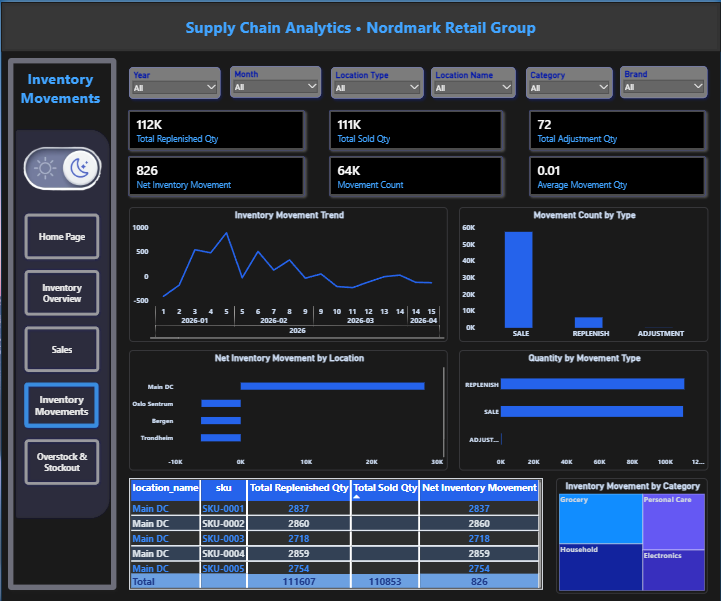

What the dashboard file says about the page in this screenshot:
{"tool":"powerbi","page":{"name":"Inventory Movements","canvas":[3600,3000],"ordinal":3},"visuals":[{"type":"slicer","fields":{"Values":["dim_date.Month (Short)"]},"box":[1142.7,322.7,456.4,158],"z":0,"group":"g3"},{"type":"group","id":"g1","title":"Group 2","box":[639.3,547.4,2887.8,200.9],"z":0,"group":"g4"},{"type":"cardVisual","fields":{"Data":["A Measures.Total Replenished Qty"]},"box":[639.3,547.4,883.6,200.9],"z":0,"group":"g1"},{"type":"cardVisual","fields":{"Data":["A Measures.Net Inventory Movement"]},"box":[639.3,776.6,883.6,200.9],"z":0,"group":"g2"},{"type":"slicer","fields":{"Values":["silver__location_master__lite.location_name"]},"box":[2152.2,325.8,423.3,155],"z":1000,"group":"g3"},{"type":"cardVisual","fields":{"Data":["A Measures.Total Sold Qty"]},"box":[1646.3,547.4,868.8,200.9],"z":1000,"group":"g1"},{"type":"shape","box":[33.7,632.2,515,1960],"z":1000},{"type":"group","id":"g2","title":"Group 2","box":[639.3,776.6,2887.8,200.9],"z":1000,"group":"g4"},{"type":"cardVisual","fields":{"Data":["A Measures.Movement Count"]},"box":[1646.3,776.6,868.8,200.9],"z":1000,"group":"g2"},{"type":"slicer","fields":{"Values":["silver__product_master__lite.brand"]},"box":[3094.7,321.7,436.5,161],"z":2000,"group":"g3"},{"type":"cardVisual","fields":{"Data":["A Measures.Total Adjustment Qty"]},"box":[2643.5,547.4,883.6,200.9],"z":2000,"group":"g1"},{"type":"cardVisual","fields":{"Data":["A Measures.Average Movement Qty"]},"box":[2643.5,776.6,883.6,200.9],"z":2000,"group":"g2"},{"type":"shape","box":[33.7,280.5,542.4,2659.6],"z":3000},{"type":"slicer","fields":{"Values":["silver__product_master__lite.category"]},"box":[2625.1,325.8,433.2,158],"z":3000,"group":"g3"},{"type":"slicer","fields":{"Values":["dim_date.Year"]},"box":[639.7,325.8,457.4,159.4],"z":4000,"group":"g3"},{"type":"group","id":"g3","title":"Group 1","box":[639.7,321.7,2891.5,157.1],"z":5000},{"type":"slicer","fields":{"Values":["silver__location_master__lite.location_type"]},"box":[1648.4,325.8,463,158],"z":5000,"group":"g3"},{"type":"pageNavigator","box":[99.9,1042.8,403.6,1386.5],"z":7000},{"type":"image","box":[41.1,669.6,540,300],"z":8000},{"type":"shape","box":[0,0,3598.5,250.6],"z":9000},{"type":"group","id":"g4","title":"Group 3","box":[639.3,547.4,2884.8,431.5],"z":22000},{"type":"clusteredColumnChart","title":"Movement Count by Type","fields":{"Category":["silver__inventory_movements__lite.movement_type"],"Y":["A Measures.Movement Count"]},"box":[2289.5,1026.9,1246.6,675.2],"z":23000},{"type":"lineChart","title":"Inventory Movement Trend","fields":{"Category":["dim_date.Year","dim_date.Year-Month","dim_date.ISO Week Number"],"Y":["A Measures.Net Inventory Movement"]},"box":[639.3,1026.9,1594.2,675.2],"z":24000},{"type":"treemap","title":"Inventory Movement by Category","fields":{"Group":["silver__product_master__lite.category"],"Values":["A Measures.Movement Count"]},"box":[2709,2381.4,827.1,559.4],"z":25000},{"type":"tableEx","fields":{"Values":["silver__location_master__lite.location_name","silver__product_master__lite.sku","A Measures.Total Replenished Qty","A Measures.Total Sold Qty","A Measures.Net Inventory Movement"]},"box":[639.3,2381.4,2013.8,559.4],"z":26000},{"type":"clusteredBarChart","title":"Net Inventory Movement by Location","fields":{"Category":["silver__location_master__lite.location_name"],"Y":["A Measures.Net Inventory Movement"]},"box":[639.3,1738.1,1594.2,603.3],"z":27000},{"type":"clusteredBarChart","title":"Quantity by Movement Type","fields":{"Category":["silver__inventory_movements__lite.movement_type"],"Y":["A Measures.ABS Qty"]},"box":[2285.5,1738.1,1246.6,603.3],"z":28000},{"type":"textbox","box":[75.9,327.6,443.5,319.6],"z":29000}]}

Visuals, with their boxes in screenshot pixels (x1, y1, x2, y2), scaled from the page's 3600x3000 canvas onto the 721x601 screenshot:
slicer - dim_date.Month (Short): region(229, 65, 320, 96)
"Group 2" group: region(128, 110, 706, 150)
cardVisual - A Measures.Total Replenished Qty: region(128, 110, 305, 150)
cardVisual - A Measures.Net Inventory Movement: region(128, 156, 305, 196)
slicer - silver__location_master__lite.location_name: region(431, 65, 516, 96)
cardVisual - A Measures.Total Sold Qty: region(330, 110, 504, 150)
shape: region(7, 127, 110, 519)
"Group 2" group: region(128, 156, 706, 196)
cardVisual - A Measures.Movement Count: region(330, 156, 504, 196)
slicer - silver__product_master__lite.brand: region(620, 64, 707, 97)
cardVisual - A Measures.Total Adjustment Qty: region(529, 110, 706, 150)
cardVisual - A Measures.Average Movement Qty: region(529, 156, 706, 196)
shape: region(7, 56, 115, 589)
slicer - silver__product_master__lite.category: region(526, 65, 613, 97)
slicer - dim_date.Year: region(128, 65, 220, 97)
"Group 1" group: region(128, 64, 707, 96)
slicer - silver__location_master__lite.location_type: region(330, 65, 423, 97)
pageNavigator: region(20, 209, 101, 487)
image: region(8, 134, 116, 194)
shape: region(0, 0, 720, 50)
"Group 3" group: region(128, 110, 706, 196)
"Movement Count by Type" clusteredColumnChart: region(459, 206, 708, 341)
"Inventory Movement Trend" lineChart: region(128, 206, 447, 341)
"Inventory Movement by Category" treemap: region(543, 477, 708, 589)
tableEx - silver__location_master__lite.location_name x silver__product_master__lite.sku: region(128, 477, 531, 589)
"Net Inventory Movement by Location" clusteredBarChart: region(128, 348, 447, 469)
"Quantity by Movement Type" clusteredBarChart: region(458, 348, 707, 469)
textbox: region(15, 66, 104, 130)
